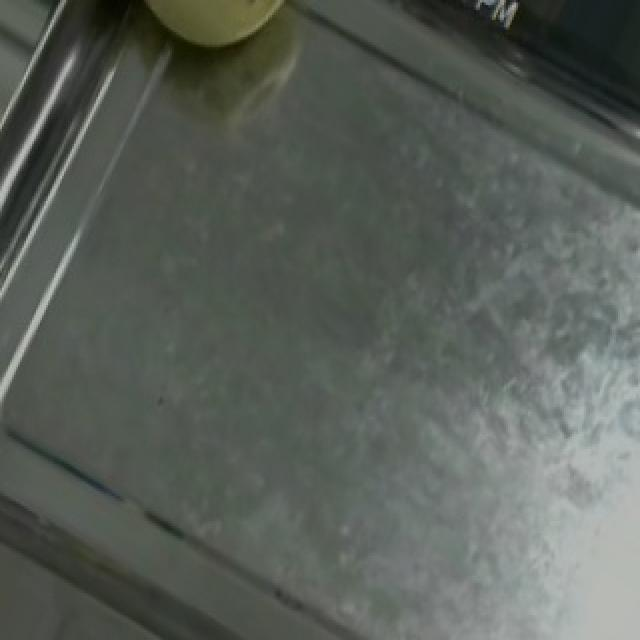Fruit: (108, 0, 326, 77)
